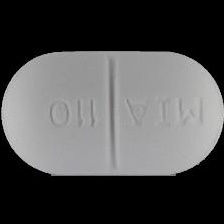68788-9711: (0, 0, 224, 224)
